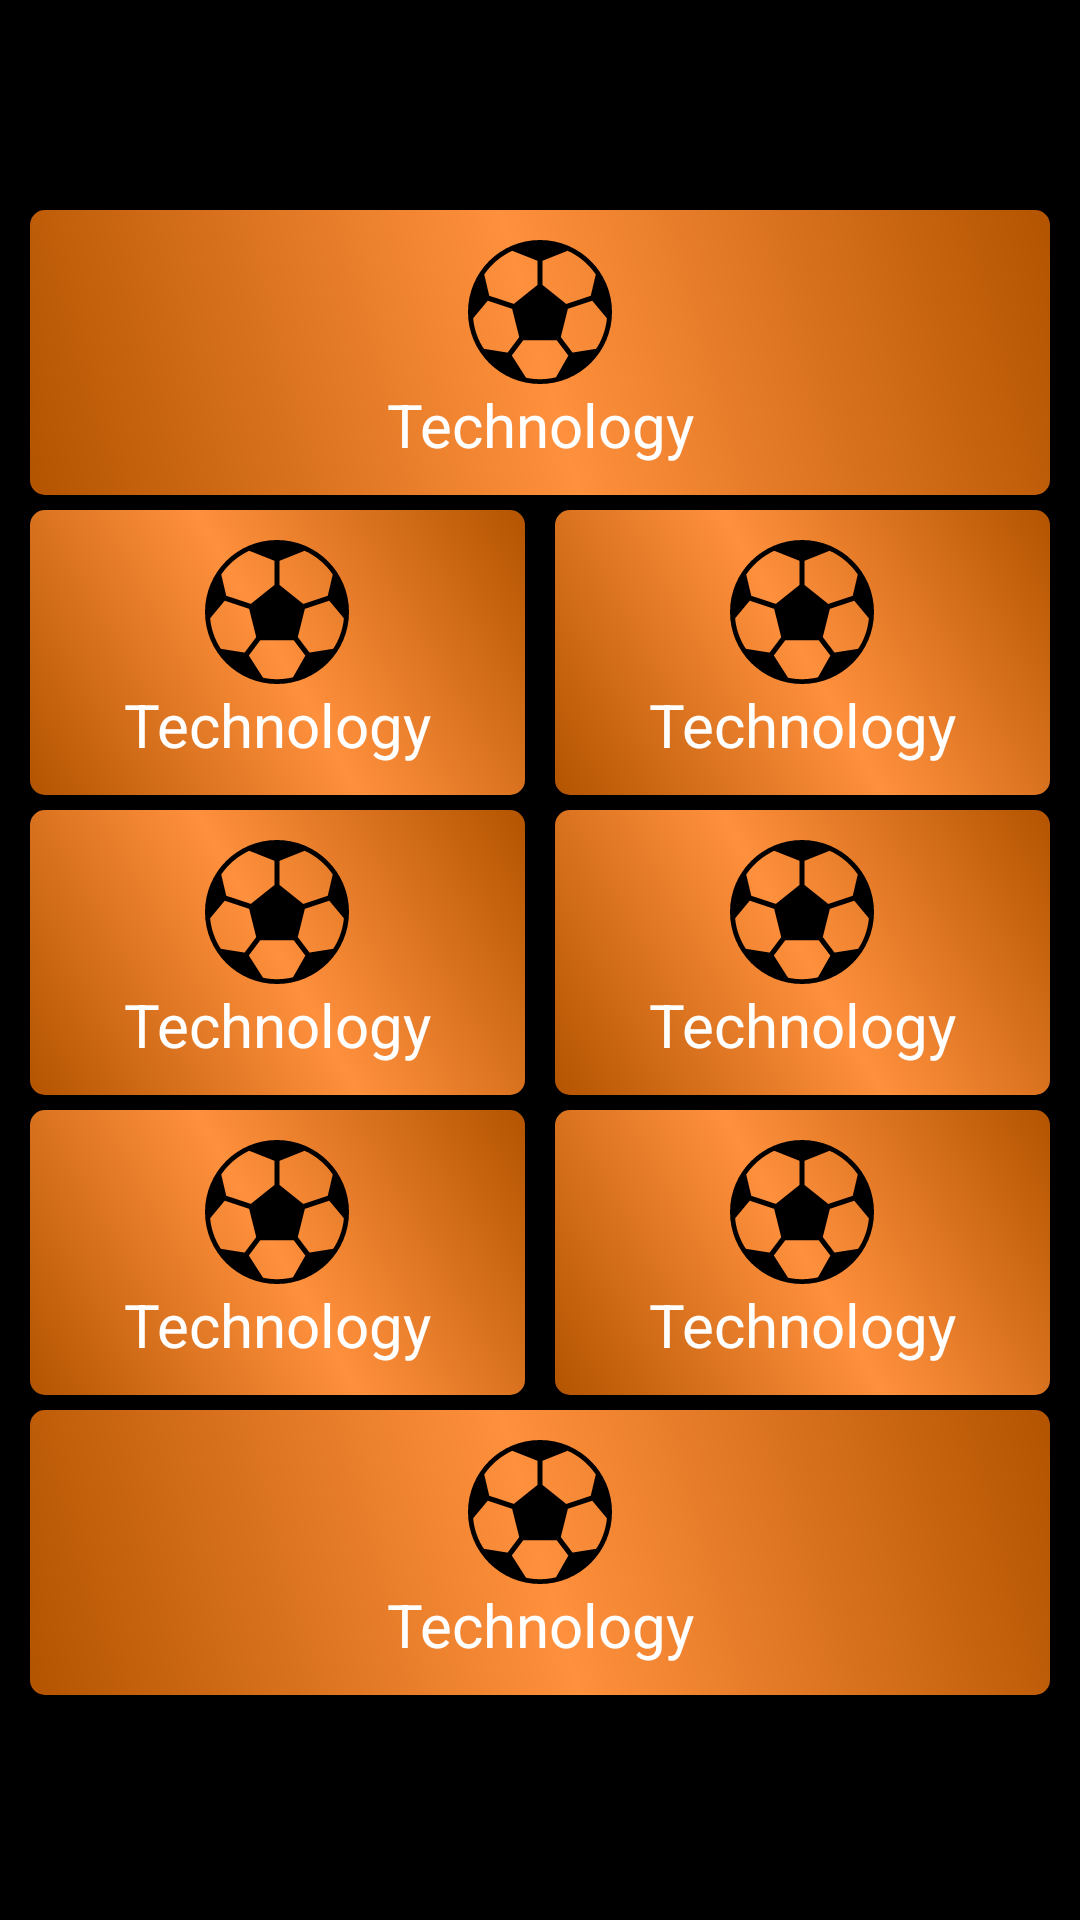

Named icons in this screenshot (1080px x 1920px) and their centers, (x,y):
sports: (540,312), (277,612), (802,612), (277,912), (802,912), (277,1212), (802,1212), (540,1512)
